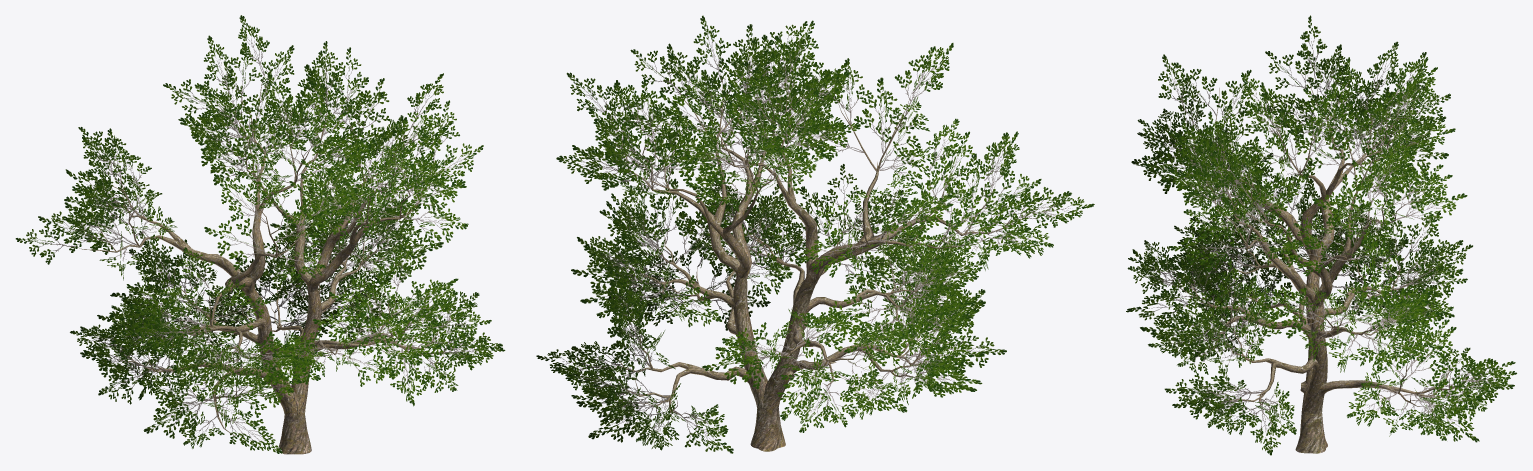
Rendered from oak.glb.
3 views of the same model, side by side, from view 1: azimuth 30°, elevation 25°; view 2: azimuth 150°, elevation 25°; view 3: azimuth 270°, elevation 25° (orthographic). The views are drawn at different scales.
Parts seen in each view (by area): view 1: oak leaf_1, mossybark02_0; view 2: oak leaf_1, mossybark02_0; view 3: oak leaf_1, mossybark02_0.
Part boxes in pixels (x1,y1,x2,y2): oak leaf_1: (15, 15, 505, 453); mossybark02_0: (78, 71, 446, 454); oak leaf_1: (536, 15, 1094, 453); mossybark02_0: (605, 79, 1030, 451); oak leaf_1: (1126, 15, 1516, 455); mossybark02_0: (1177, 81, 1467, 453).
Bounding box in the file's own units: 10.53 × 8.83 × 8.2.
2 materials, 2 textured.
